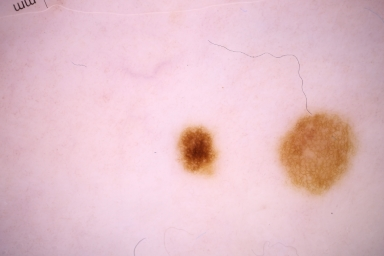nevus: (283, 116, 353, 190), (177, 126, 214, 172)
